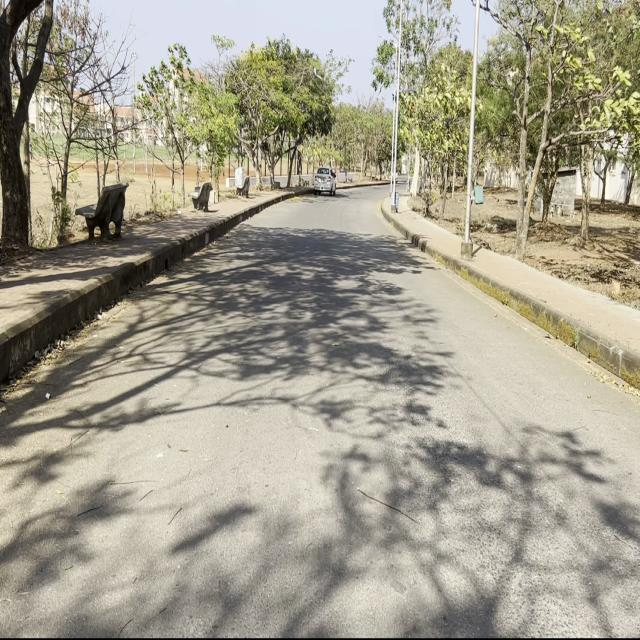Object: (314, 164, 339, 205)
Road: (4, 191, 638, 632)
